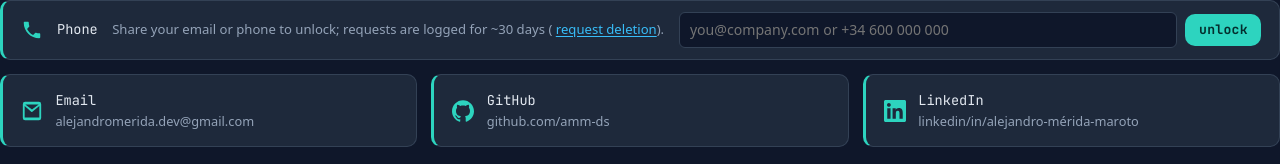
Test: ChannelCards › clears the error once the input is edited
In the field named "email or phone": (928,30) top-left (678, 12), bottom-right (1177, 48), type "nope"
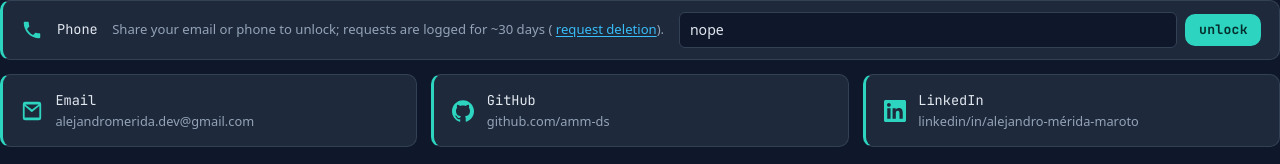
Click the button "unlock": (1223,30) top-left (1185, 14), bottom-right (1261, 46)
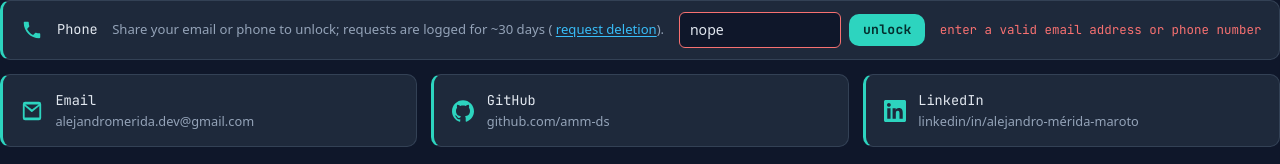
Result: the message "enter a valid email address or phone number" is shown at top-left (940, 20), bottom-right (1261, 40)
Replace the text in the field named "email or phone" with "ada@example.com": (760,30) top-left (678, 12), bottom-right (841, 48)
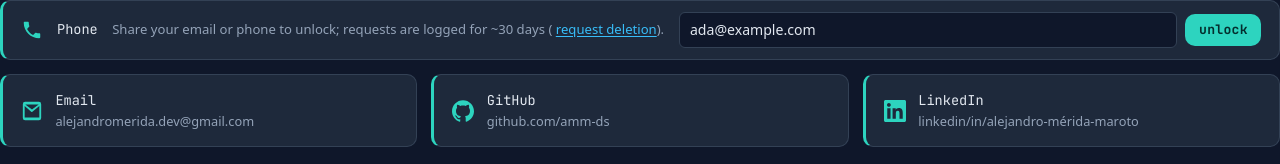
Result: the message "enter a valid email address or phone number" is gone
